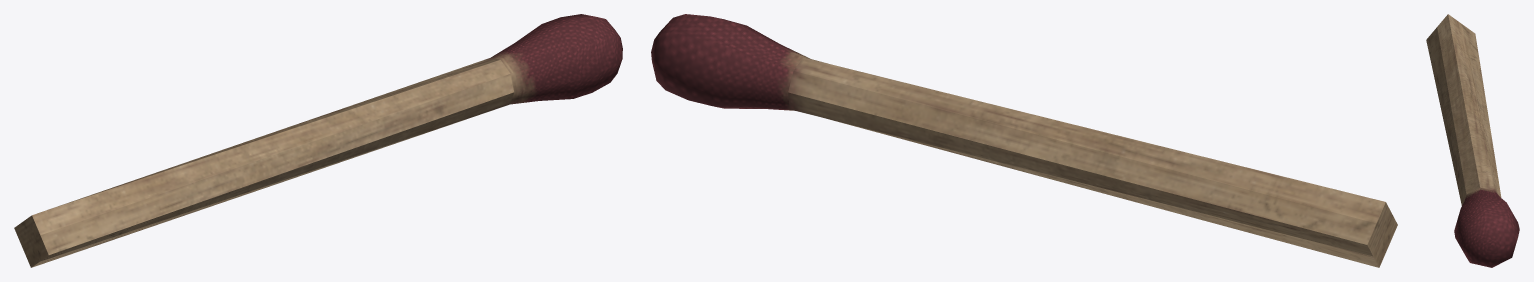
Rendered from matchstick.fbx.
3 renders of one model, left to right at view 1: azimuth 30°, elevation 25°; view 2: azimuth 150°, elevation 25°; view 3: azimuth 270°, elevation 25°, orthographic. The views are drawn at different scales.
Parts seen in each view (by area): view 1: Matchstick.001; view 2: Matchstick.001; view 3: Matchstick.001.
Boxes of the visible parts, box(x1,y1,x2,y2) form: Matchstick.001: box(14, 14, 622, 267); Matchstick.001: box(651, 14, 1397, 267); Matchstick.001: box(1426, 14, 1519, 267).
Size of the model in its own units: 73 by 10.92 by 12.09.
